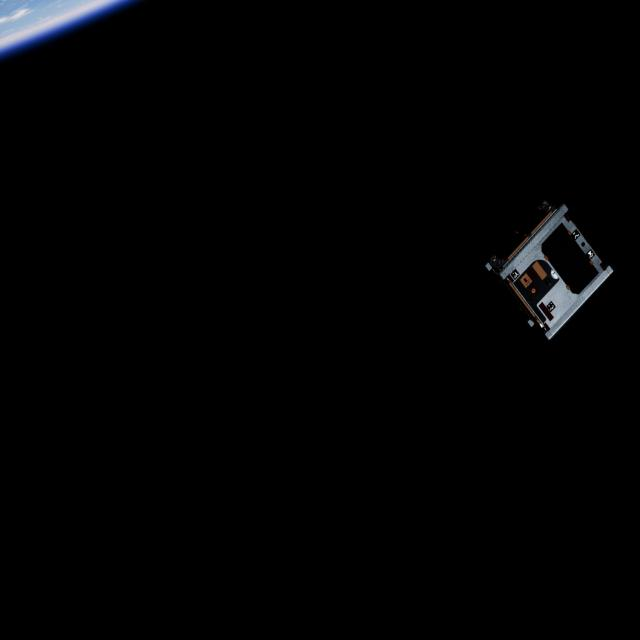satellite: (492, 202, 614, 341)
